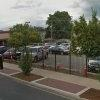Tree: (34, 8, 100, 46)
